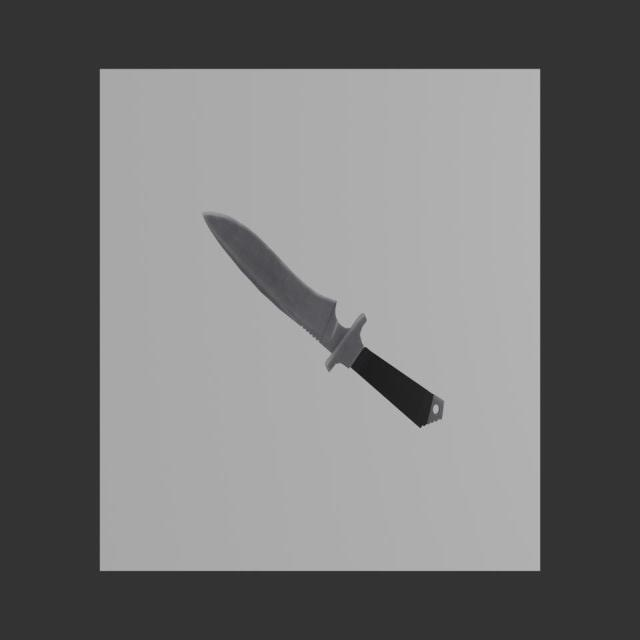knife: (351, 347, 444, 428)
